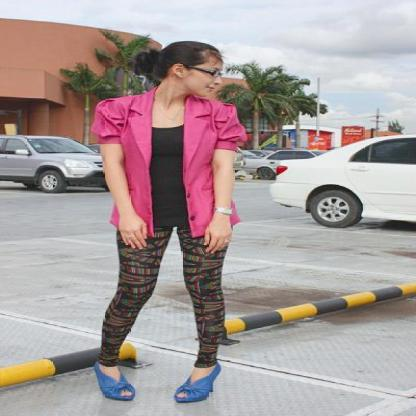jacket: (92, 87, 250, 240)
pants: (99, 218, 236, 368)
shirt: (149, 124, 190, 234)
shoe: (97, 362, 219, 403)
